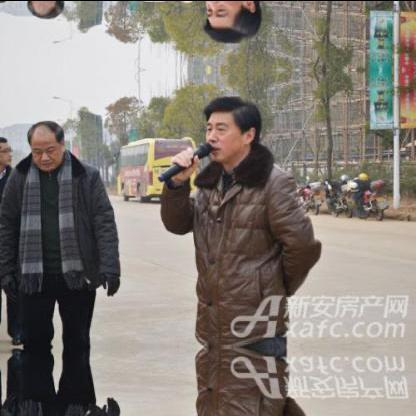No Helmet: (202, 92, 260, 164), (201, 0, 262, 45), (24, 115, 68, 174), (23, 0, 69, 21)
